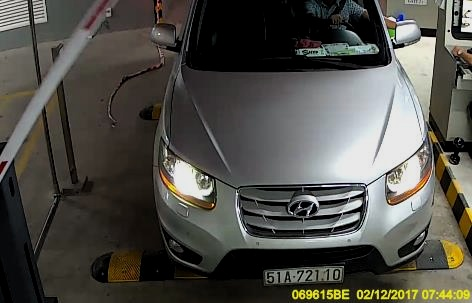plate: (262, 265, 346, 286)
